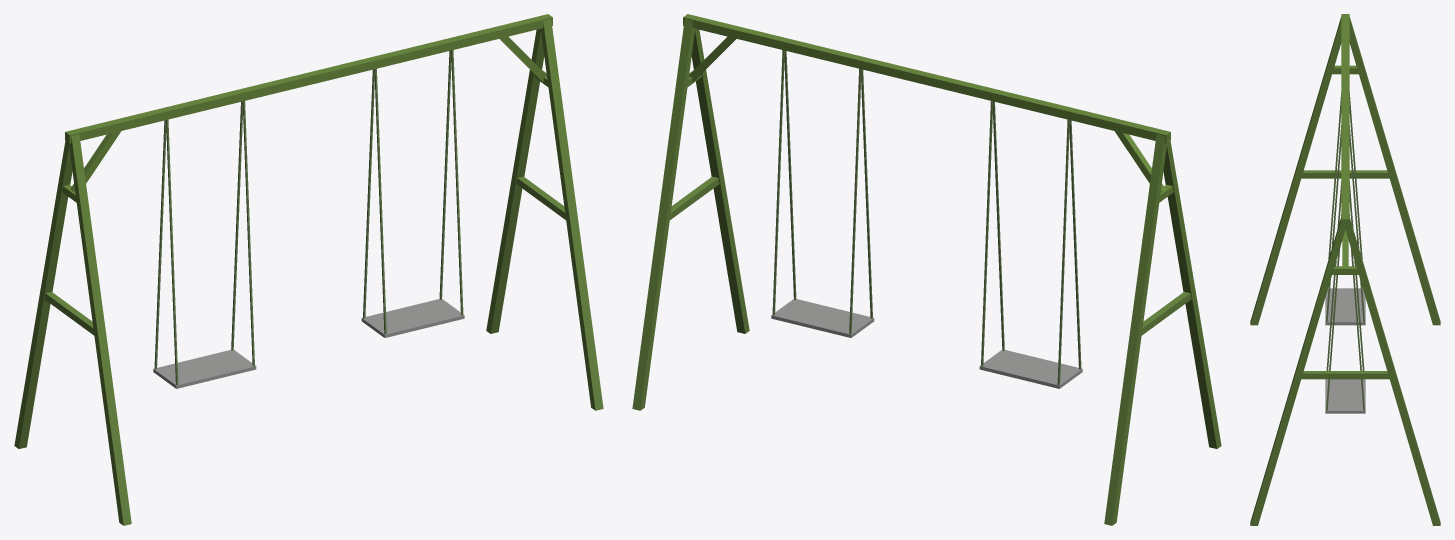
Rendered from Playground_01.fbx.
The picture shows the model from 3 angles, left to right: view 1: azimuth 30°, elevation 25°; view 2: azimuth 150°, elevation 25°; view 3: azimuth 270°, elevation 25°; orthographic projection. The views are drawn at different scales.
Parts seen in each view (by area): view 1: Playground_01; view 2: Playground_01; view 3: Playground_01.
Part boxes in pixels (box(x1,y1,x2,y2)): Playground_01: box(14, 14, 603, 525); Playground_01: box(632, 14, 1221, 525); Playground_01: box(1250, 14, 1440, 525).
Bounding box in the file's own units: 3.02 × 2.11 × 1.18.
